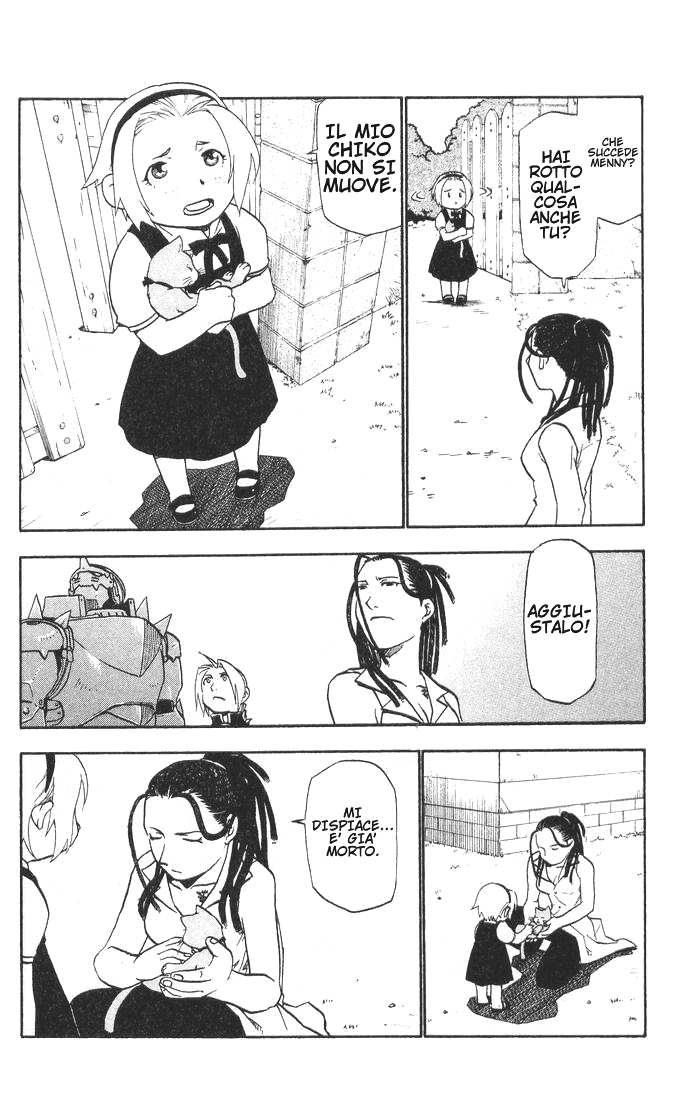Baloon: (21, 747, 420, 1037), (16, 551, 642, 727), (408, 96, 643, 529), (420, 751, 643, 1039), (520, 96, 640, 279), (294, 756, 398, 913), (313, 95, 403, 234), (527, 540, 593, 703)
Vignetta: (15, 81, 401, 529)
